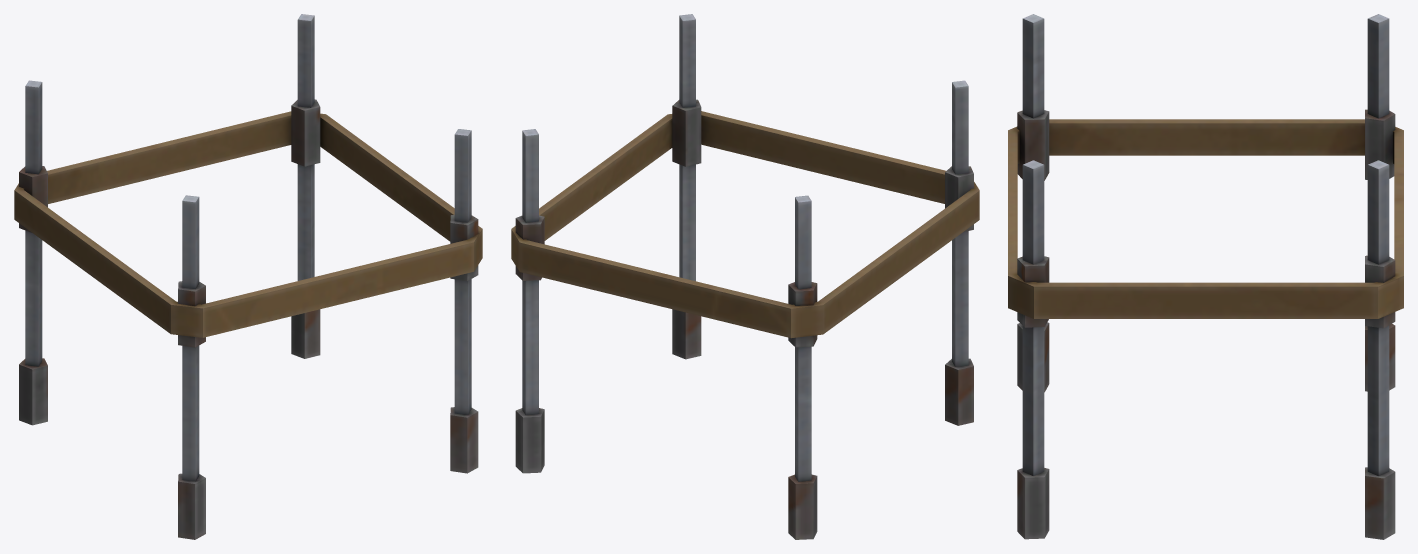
Rendered from Chute_Support.glb.
3 views of the same model, side by side, from view 1: azimuth 30°, elevation 25°; view 2: azimuth 150°, elevation 25°; view 3: azimuth 270°, elevation 25° (orthographic). The views are drawn at different scales.
Visible parts, largest first — view 1: Chute_Support; view 2: Chute_Support; view 3: Chute_Support.
Part boxes in pixels (x1=…): Chute_Support: x1=14, y1=14, x2=482, y2=539; Chute_Support: x1=511, y1=14, x2=979, y2=539; Chute_Support: x1=1008, y1=14, x2=1403, y2=539.
Size of the model in its own units: 0.9919 by 1.02 by 0.9919.
1 material, 1 textured.
